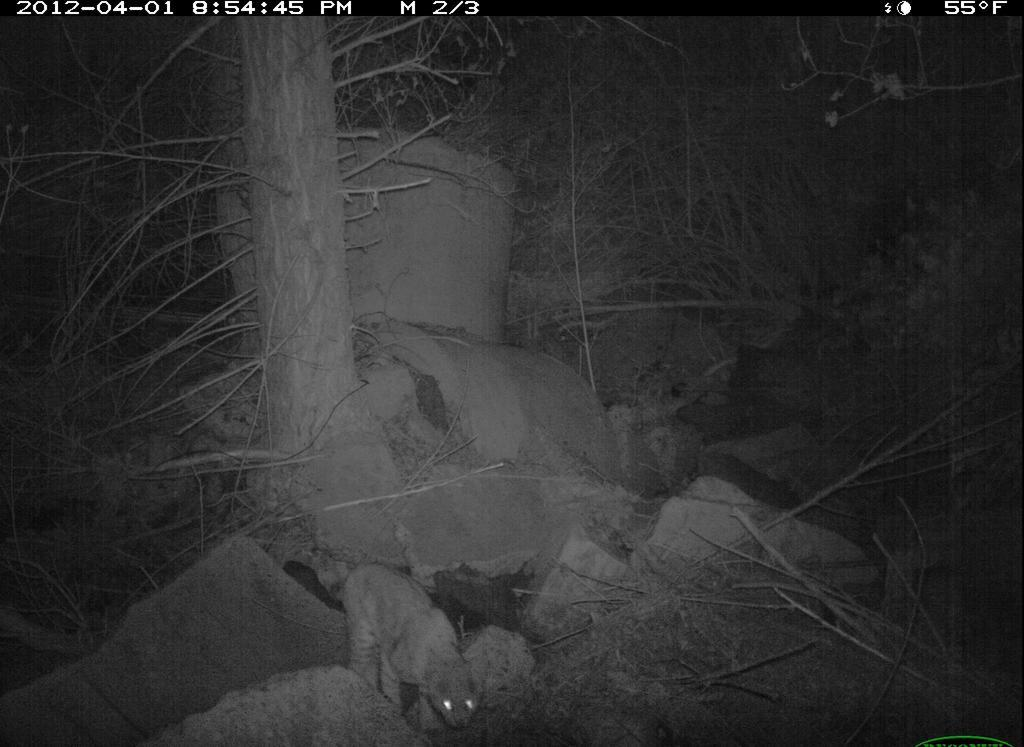bobcat: (333, 547, 495, 730)
